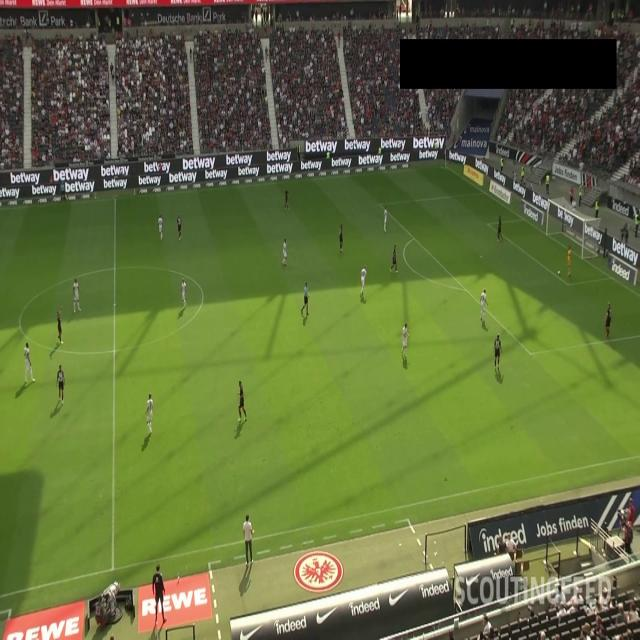ball: (556, 264, 562, 277)
player: (22, 336, 35, 388), (237, 377, 249, 432), (68, 274, 82, 316), (52, 304, 65, 346), (144, 395, 154, 435), (54, 362, 64, 401), (400, 322, 410, 360), (478, 286, 488, 324), (492, 336, 501, 378), (178, 278, 189, 312), (604, 298, 613, 339), (280, 237, 290, 268), (566, 242, 573, 280), (158, 212, 165, 248), (496, 211, 503, 246), (282, 187, 291, 214), (381, 207, 389, 234), (176, 213, 184, 239), (336, 225, 344, 251), (392, 244, 398, 277), (359, 264, 365, 296)
